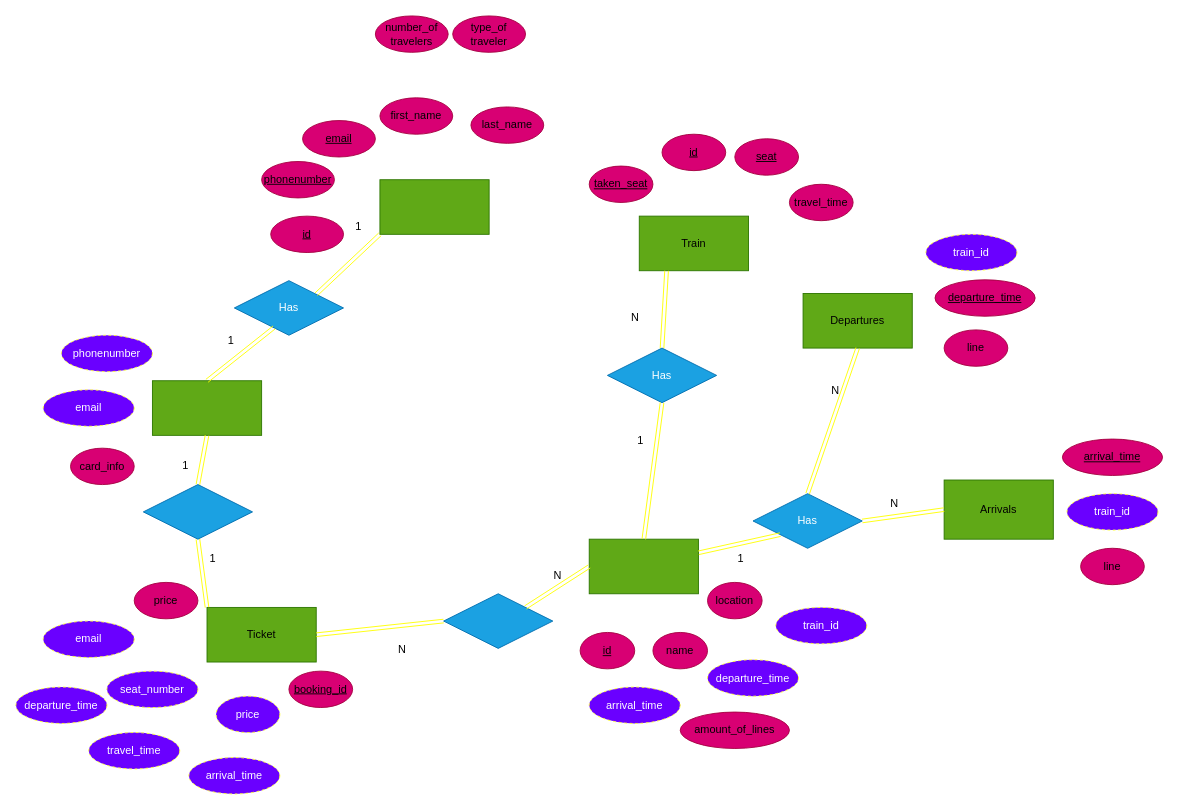
This 1178x810 diagram has some shape labels left out. The box of each missing label's shape, as (x1, y1, x2, y2) in pixels:
Gets information: (443, 593, 553, 648)
Includes: (142, 484, 253, 539)
Payment Information: (152, 380, 262, 435)
Train Station: (588, 538, 698, 594)
Traveler: (379, 179, 489, 234)
